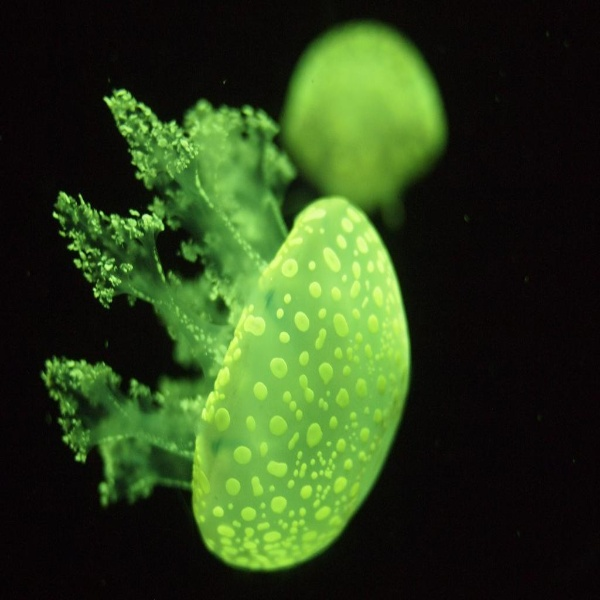Jellyfish: (38, 80, 410, 573), (281, 22, 445, 221)
